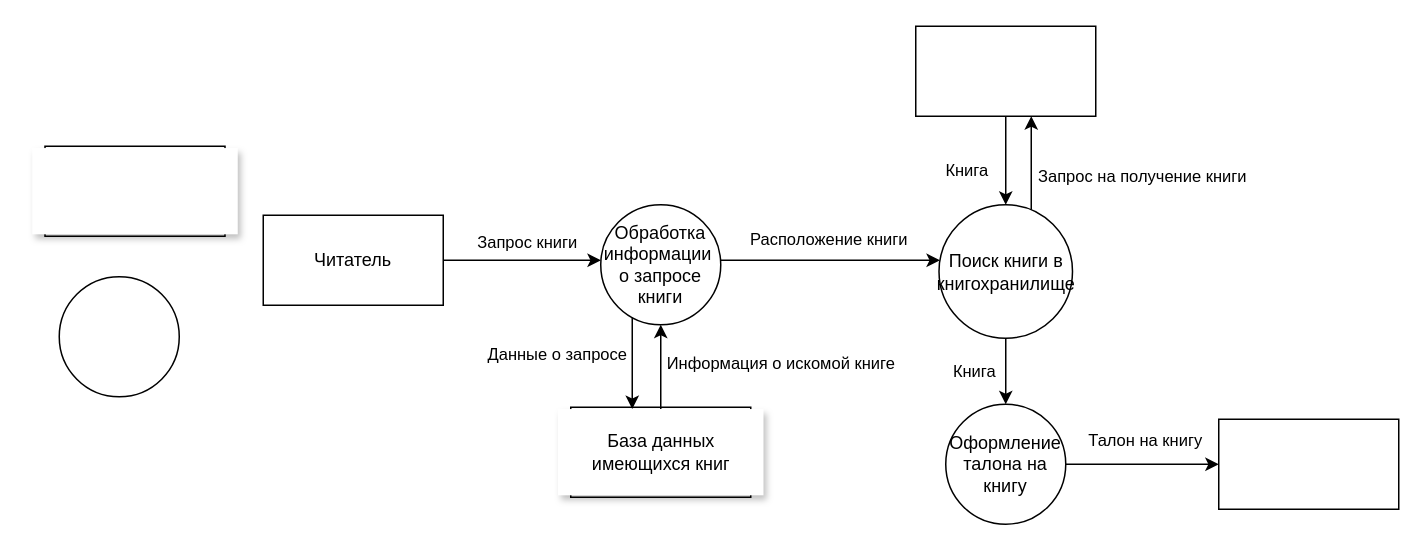
This 1425x551 diagram has some shape labels left out. Each missing label, with the centre of its shape:
Библиотекарь: [1308,463]
Книгохранилище: [1005,70]
